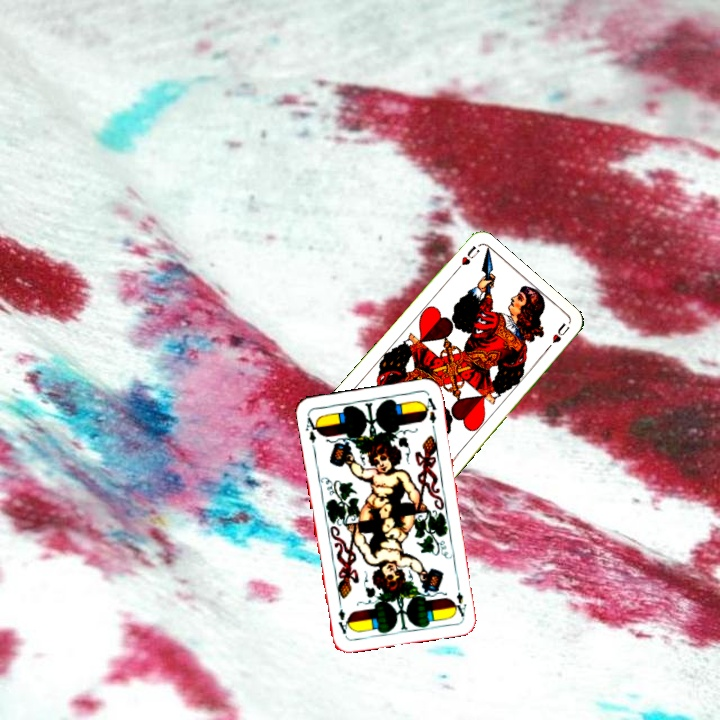EA: (301, 411, 322, 452), (451, 588, 469, 619)
HU: (450, 242, 482, 276)
